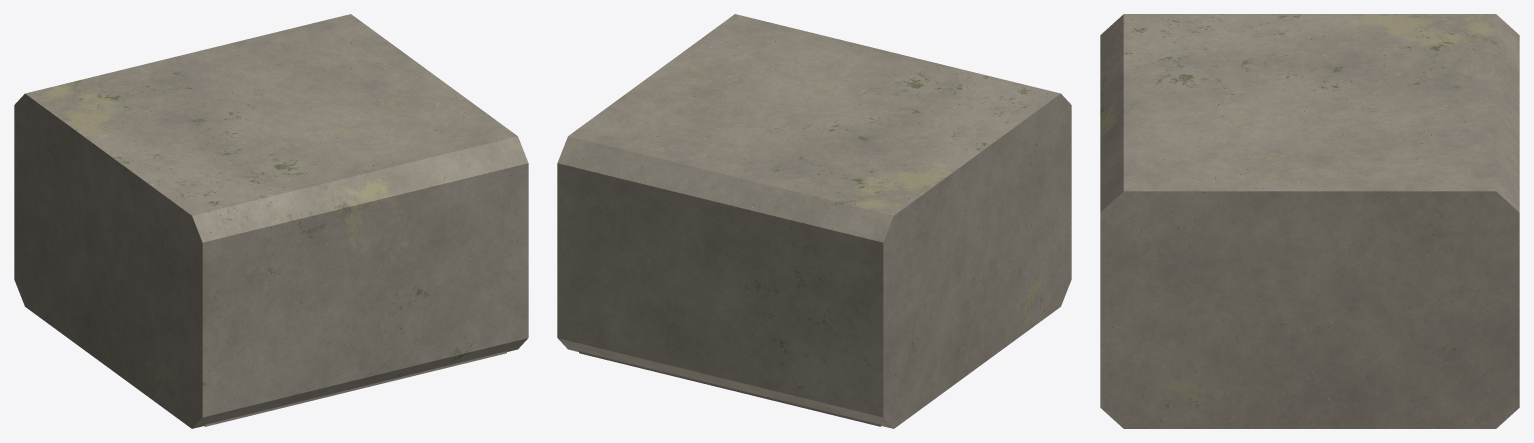
Rendered from HO_Found_Plinth_Corner.fbx.
The picture shows the model from 3 angles, left to right: view 1: azimuth 30°, elevation 25°; view 2: azimuth 150°, elevation 25°; view 3: azimuth 270°, elevation 25°; orthographic projection. The views are drawn at different scales.
Visible parts, largest first — view 1: HO_Found_Plinth_Corner; view 2: HO_Found_Plinth_Corner; view 3: HO_Found_Plinth_Corner.
Boxes of the visible parts, <box> form: HO_Found_Plinth_Corner: <box>14,14,528,428</box>; HO_Found_Plinth_Corner: <box>557,14,1071,428</box>; HO_Found_Plinth_Corner: <box>1100,14,1519,428</box>.
Bounding box in the file's own units: 1.6 × 1 × 1.6.
